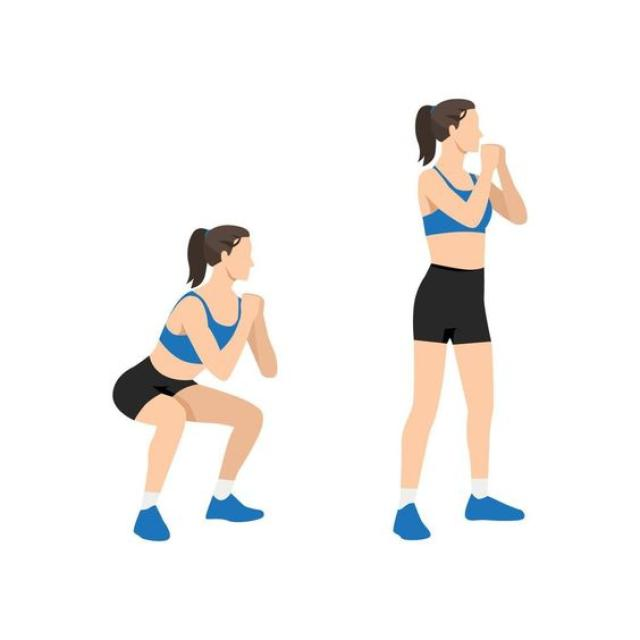squat: (108, 221, 279, 547)
